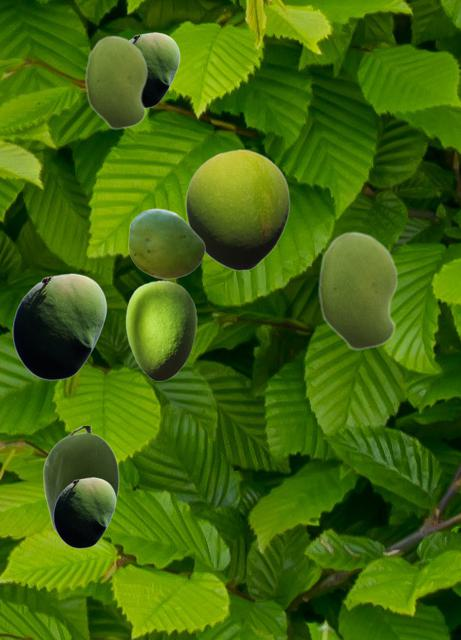green_mango: (185, 149, 289, 270), (12, 273, 106, 379), (318, 231, 397, 350), (42, 426, 118, 533), (125, 280, 196, 380), (85, 35, 147, 129), (128, 208, 204, 278), (53, 477, 115, 547), (130, 32, 179, 107)
